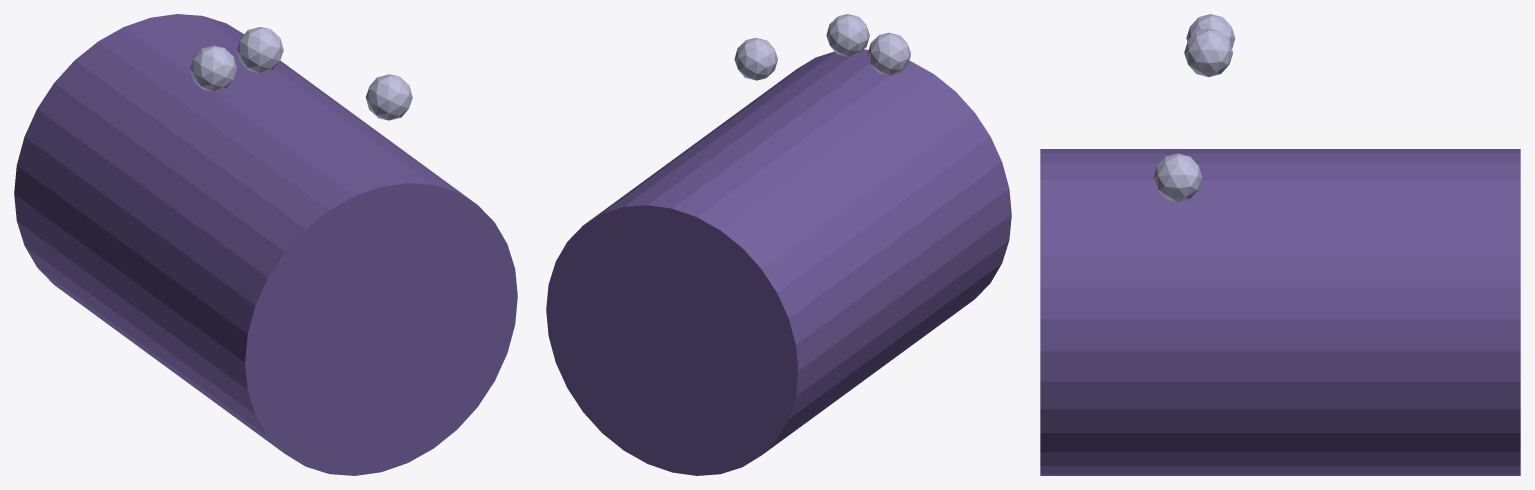
Rendered from void_spawn.glb.
3 renders of one model, left to right at view 1: azimuth 30°, elevation 25°; view 2: azimuth 150°, elevation 25°; view 3: azimuth 270°, elevation 25°, orthographic. The views are drawn at different scales.
Visible parts, largest first — view 1: geometry_0; view 2: geometry_0; view 3: geometry_0.
Boxes of the visible parts, box(x1,y1,x2,y2) form: geometry_0: box(14, 14, 517, 475); geometry_0: box(546, 14, 1011, 475); geometry_0: box(1040, 14, 1520, 475).
Bounding box in the file's own units: 0.6 × 0.8286 × 0.88.
